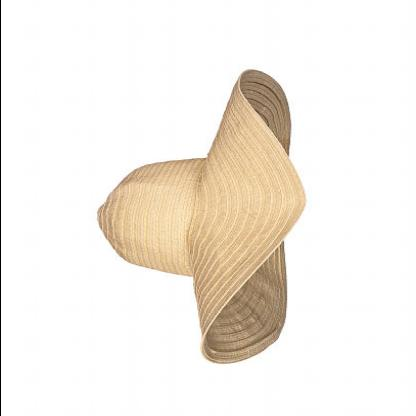hat: (91, 66, 309, 368)
